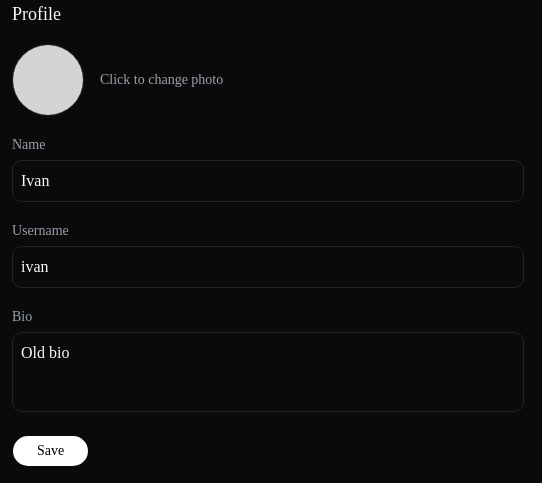
ProfileSection › keeps a field the user is editing when the profile refetches
Replace the text in the 1st field with placeholder "Your name" with "Ivan Y" at (268, 181), box [12,160,524,202]
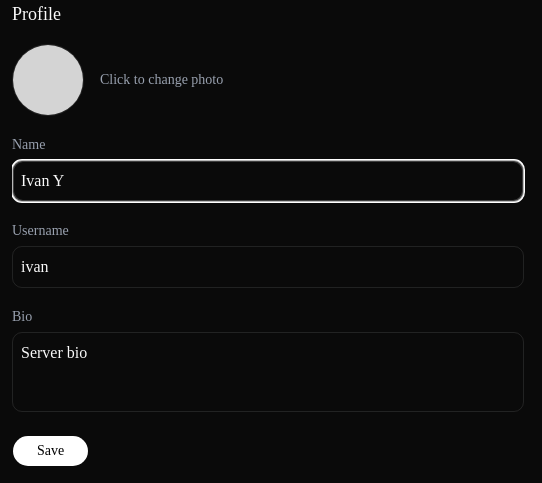
Result: the text box with placeholder "About you..." holds "Server bio" at [12,332,524,412]
